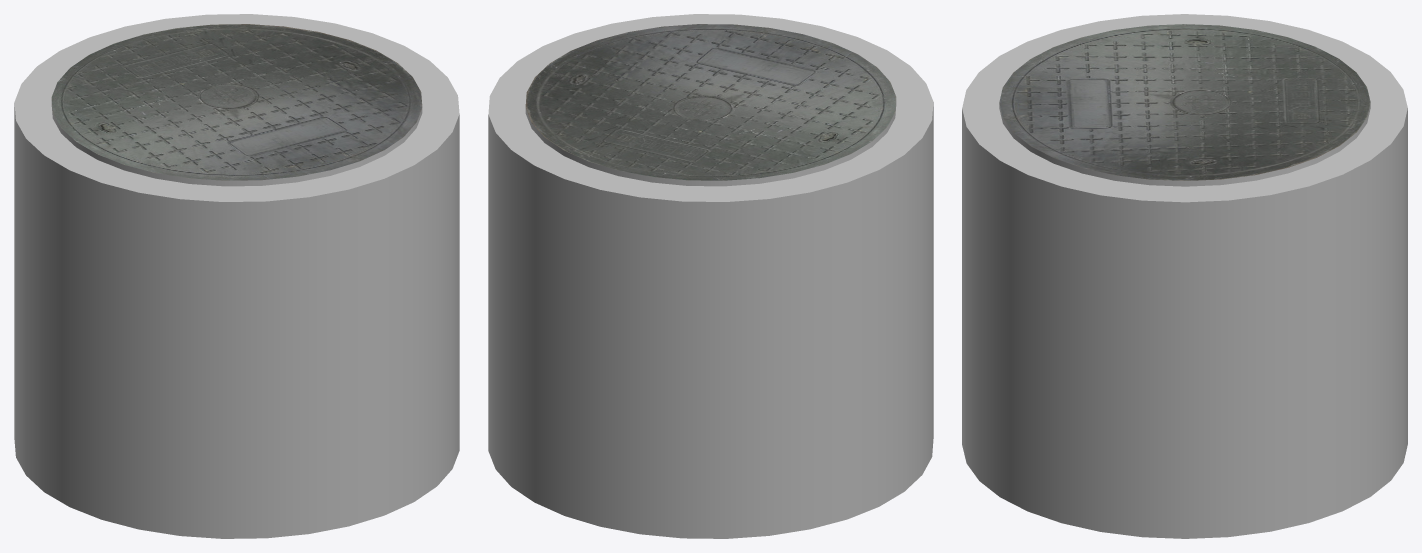
The picture shows the model from 3 angles, left to right: view 1: azimuth 30°, elevation 25°; view 2: azimuth 150°, elevation 25°; view 3: azimuth 270°, elevation 25°; orthographic projection.
Visible parts, largest first — view 1: 524010_1; view 2: 524010_1; view 3: 524010_1.
Boxes of the visible parts, <box> form: 524010_1: <box>14,14,459,538</box>; 524010_1: <box>488,14,933,538</box>; 524010_1: <box>962,14,1407,538</box>.
Bounding box in the file's own units: 1.2 × 1.02 × 1.2.
3 materials, 1 textured.
